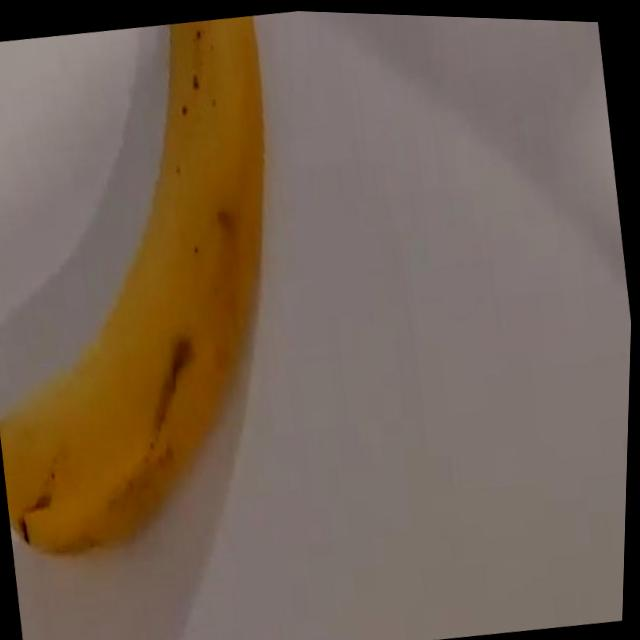Banana: (0, 6, 327, 578)
